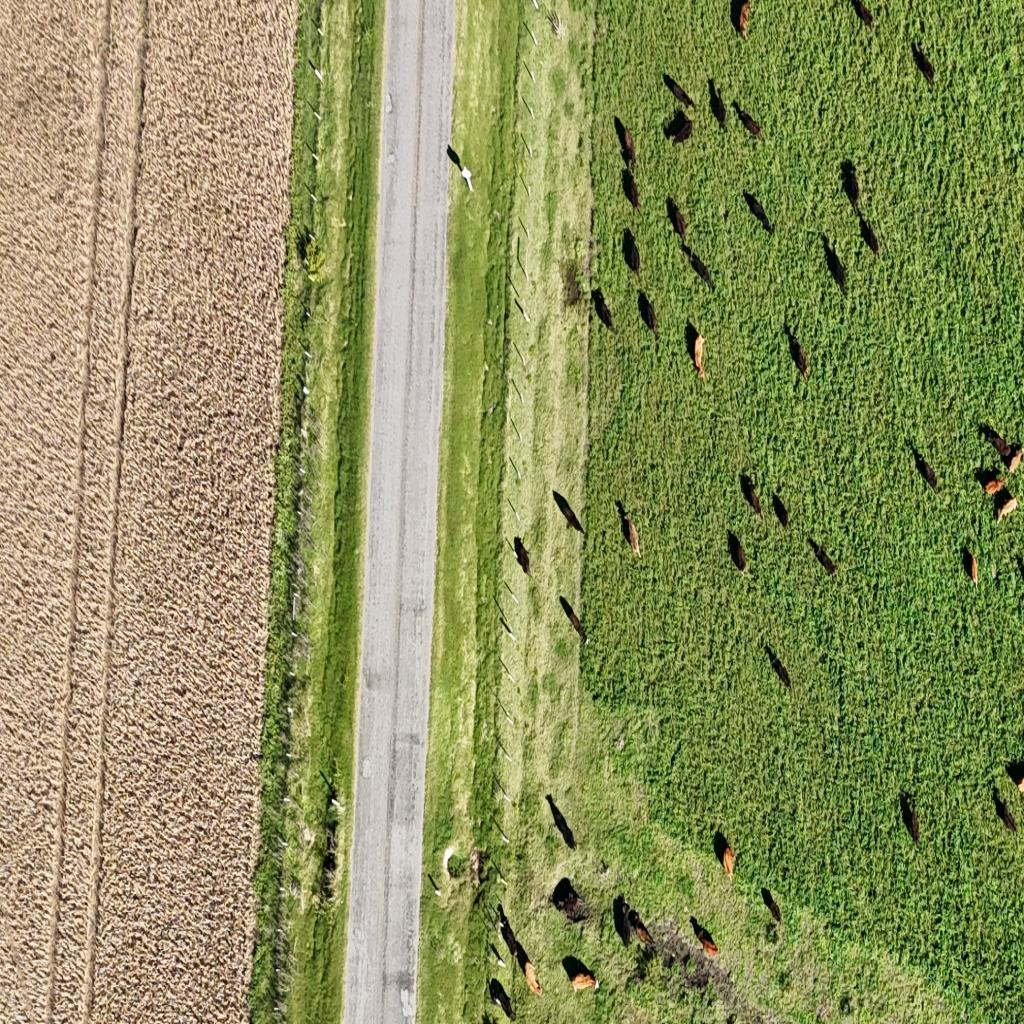cow: (496, 907, 541, 1002), (614, 894, 654, 951), (552, 877, 592, 925), (546, 793, 576, 850), (562, 956, 599, 998), (560, 596, 590, 646), (552, 489, 584, 535), (911, 446, 940, 493), (684, 242, 712, 290), (614, 116, 637, 172), (744, 190, 773, 234), (448, 143, 474, 190), (663, 73, 696, 110), (990, 484, 1019, 526), (691, 916, 720, 958), (619, 503, 641, 558), (734, 101, 762, 142), (489, 977, 515, 1021), (993, 786, 1017, 832), (637, 290, 659, 338), (667, 197, 689, 245), (622, 225, 641, 279), (900, 793, 920, 842), (913, 40, 935, 84), (593, 288, 614, 334), (664, 112, 692, 146), (690, 326, 707, 382), (842, 159, 861, 209), (716, 833, 736, 880), (813, 541, 838, 578), (979, 423, 1007, 456), (860, 212, 880, 258), (761, 884, 782, 926), (729, 530, 748, 575), (623, 169, 641, 214), (513, 535, 531, 579), (745, 476, 763, 520), (709, 82, 726, 128), (852, 0, 876, 31), (733, 0, 751, 40), (1004, 760, 1024, 796), (963, 544, 979, 588), (679, 239, 696, 279), (496, 902, 512, 944), (797, 341, 811, 380), (765, 645, 782, 671)
